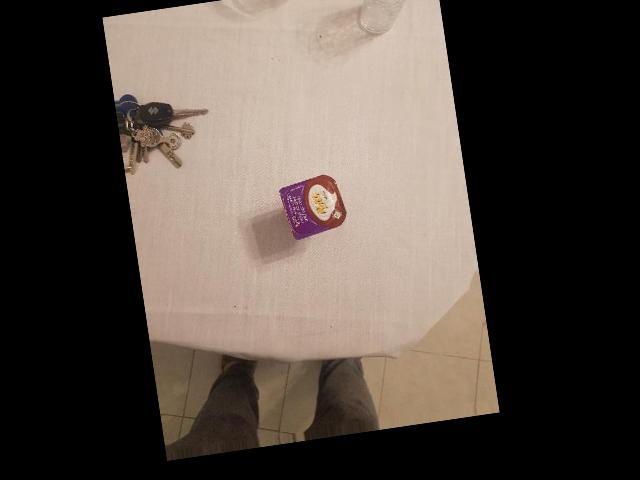milky: (305, 98, 383, 178)
